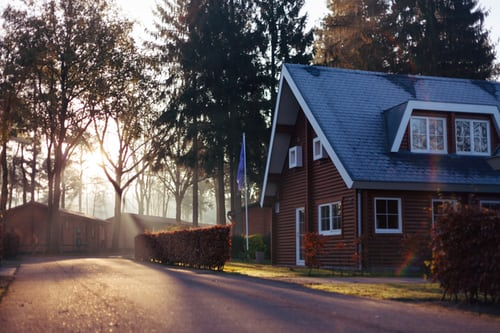house: (246, 56, 496, 278)
